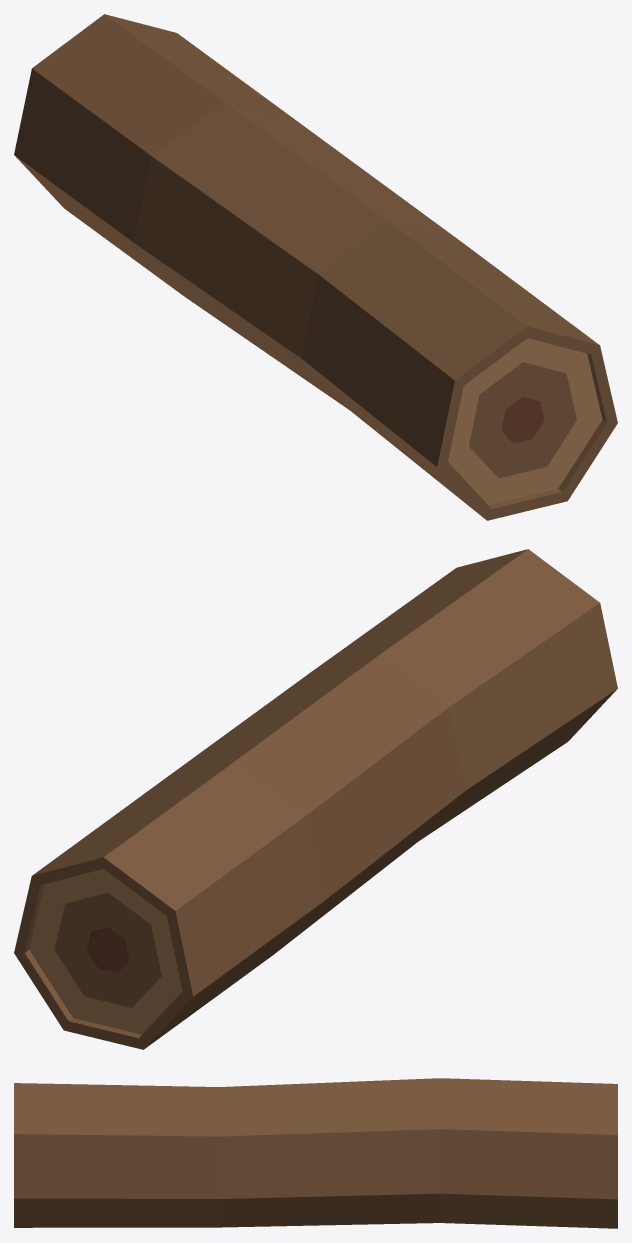
Rendered from Log_01.glb.
The picture shows the model from 3 angles, top to bottom: view 1: azimuth 30°, elevation 25°; view 2: azimuth 150°, elevation 25°; view 3: azimuth 270°, elevation 25°; orthographic projection. The views are drawn at different scales.
Parts seen in each view (by area): view 1: Log_01; view 2: Log_01; view 3: Log_01.
Boxes of the visible parts, x1,y1,x2,y2 form: Log_01: (14,14,617,520); Log_01: (14,549,617,1049); Log_01: (14,1078,617,1228).
Size of what is drawn, in the model's own units: 0.6664 by 0.6463 by 2.63.
1 material, 1 textured.
